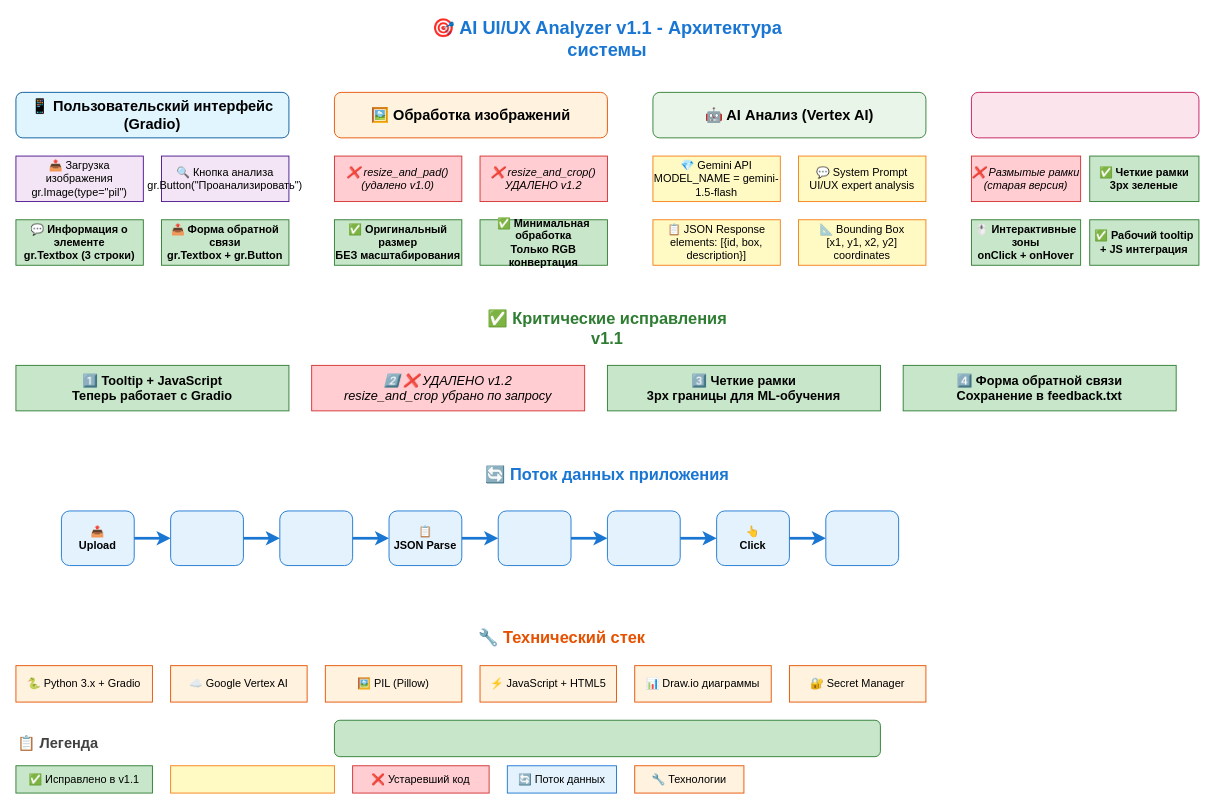
Some shapes in this 1215 by 809 pixel diagram are drawn without their labels. Each missing label, with the box of its shape:
🎨 HTML Gen: (497, 510, 571, 566)
🎨 Интерактивная визуализация: (971, 91, 1199, 138)
💬 Feedback: (825, 510, 899, 566)
📏 Original Size: (170, 510, 243, 566)
🔄 v1.2 - ФУНКЦИЯ RESIZE_AND_CROP() УДАЛЕНА ПО ЗАПРОСУ ПОЛЬЗОВАТЕЛЯ ✅: (334, 719, 880, 757)
🔄 Существующий функционал: (170, 765, 334, 793)
🖥️ Display: (607, 510, 680, 566)
🤖 AI Analysis: (279, 510, 353, 566)
